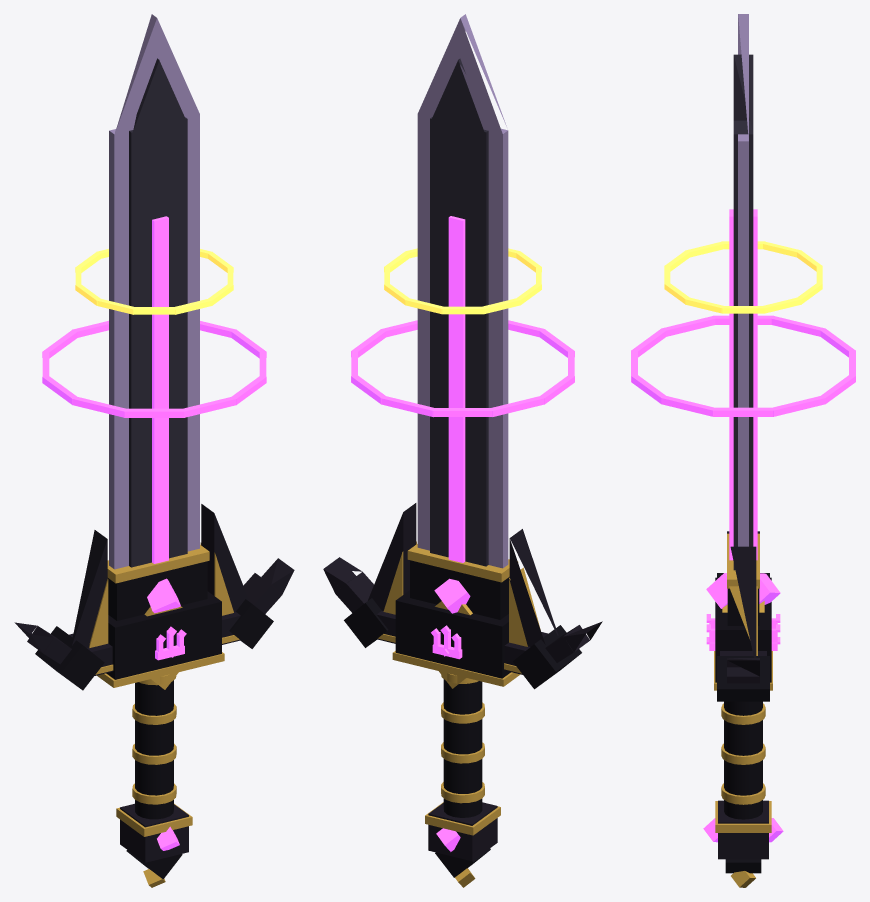
The picture shows the model from 3 angles, left to right: view 1: azimuth 30°, elevation 25°; view 2: azimuth 150°, elevation 25°; view 3: azimuth 270°, elevation 25°; orthographic projection.
Visible parts, largest first — view 1: monarchs-edge; view 2: monarchs-edge; view 3: monarchs-edge.
Part boxes in pixels (x1,y1,x2,y2): monarchs-edge: (14, 14, 294, 887); monarchs-edge: (323, 14, 602, 887); monarchs-edge: (631, 14, 855, 887).
Bounding box in the file's own units: 0.4084 × 1.29 × 0.3009.
